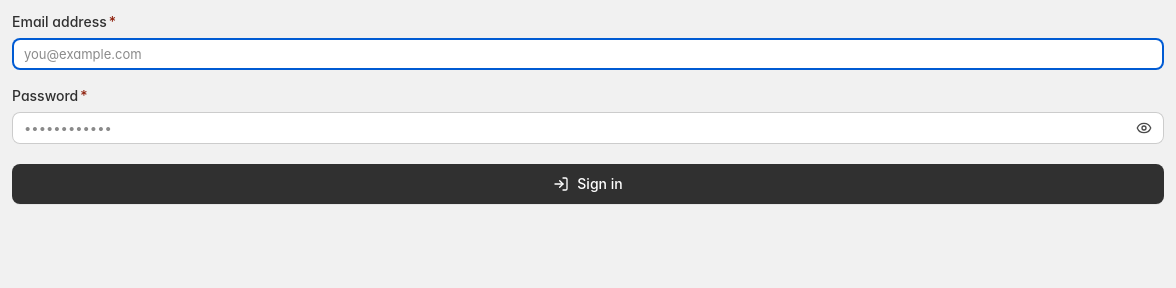
Test: LoginForm › refuses a customer account, even with valid credentials
Type "shopper@example.com" into the field labelled "Email address*". click: (588, 54)
box: [12,38,1164,70]
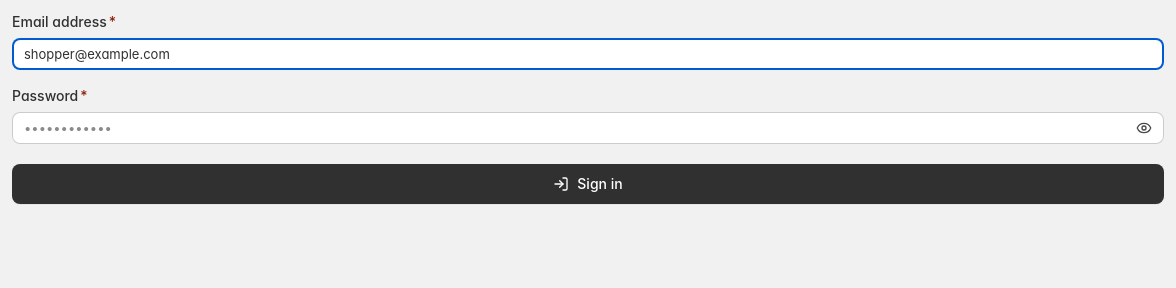
Type "correct horse battery" into the password field labelled "Password*". click: (588, 128)
box: [12,112,1164,144]
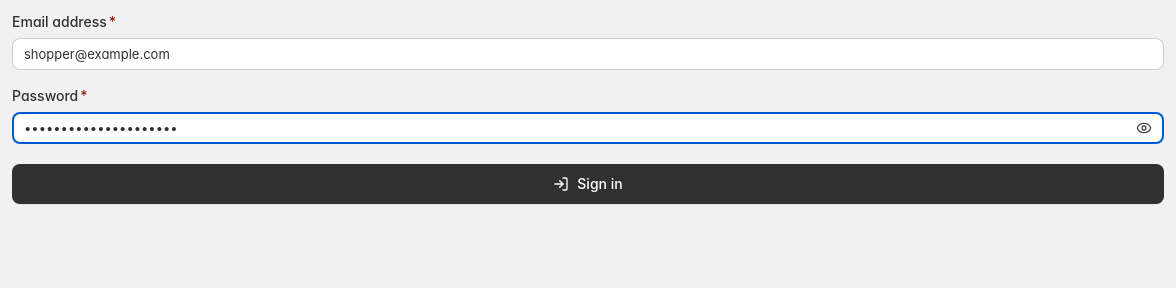
Click the button "Sign in". click: (588, 184)
box: [12,164,1164,204]
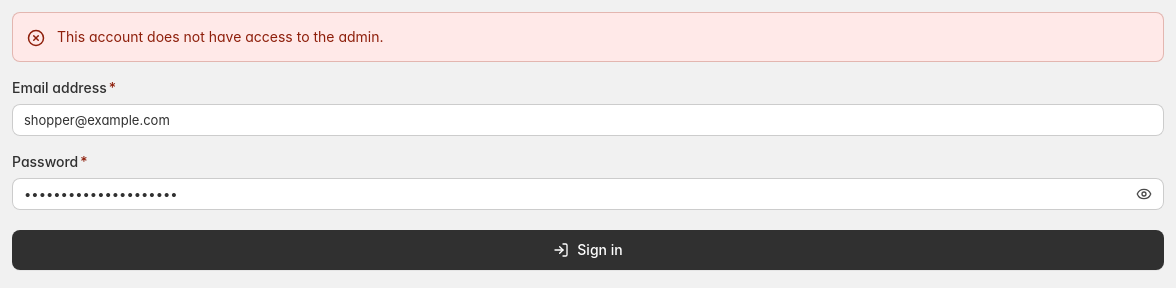
Now the text "This account does not have access to the admin." is shown, box [57,28,384,45]
